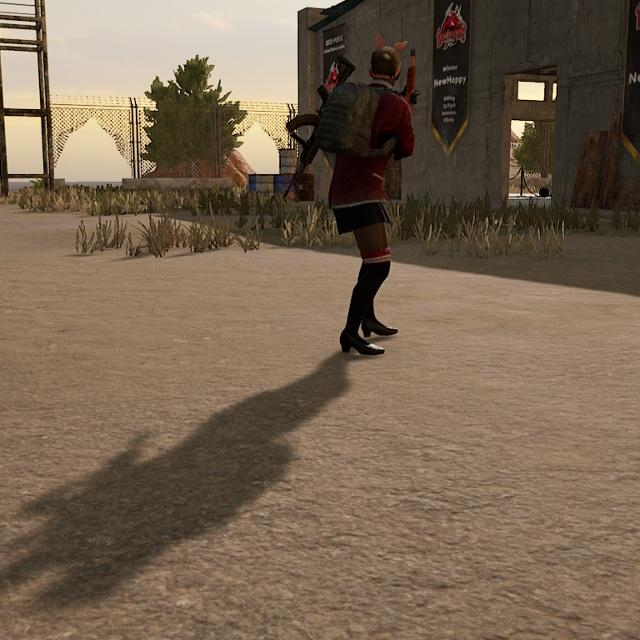head: (366, 44, 406, 89)
people: (322, 43, 418, 359)
